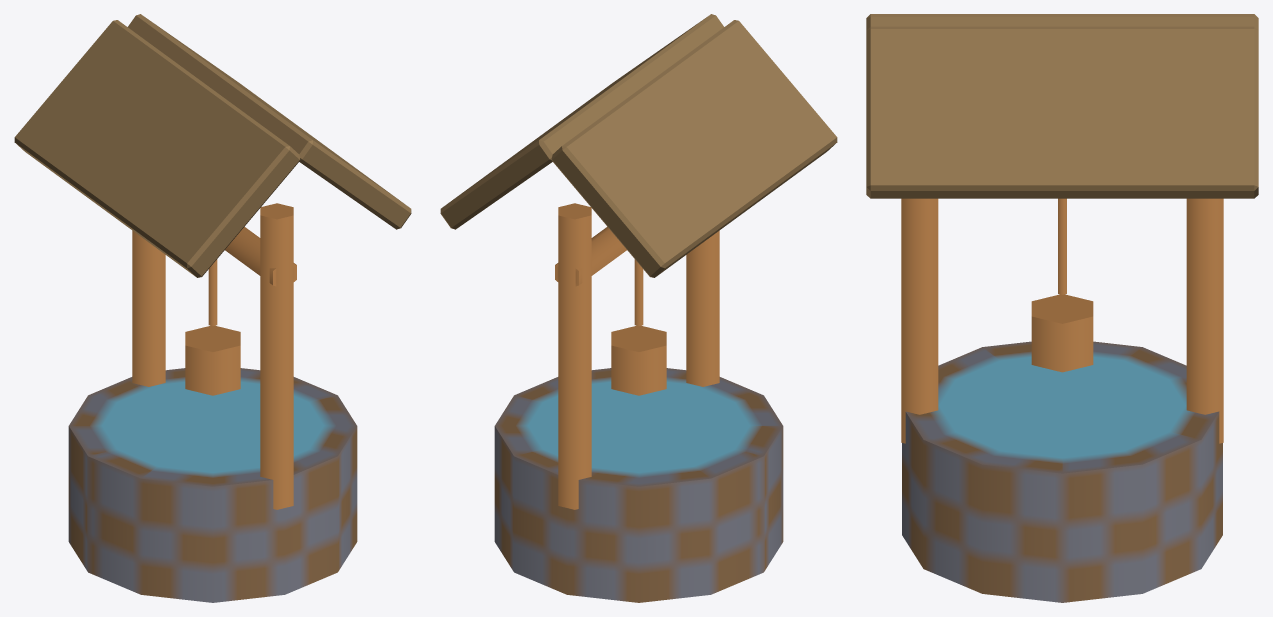
File: prop_well_7e09.glb
The picture shows the model from 3 angles, left to right: view 1: azimuth 30°, elevation 25°; view 2: azimuth 150°, elevation 25°; view 3: azimuth 270°, elevation 25°; orthographic projection. The views are drawn at different scales.
Parts seen in each view (by area): view 1: prop_well_7e09; view 2: prop_well_7e09; view 3: prop_well_7e09.
Boxes of the visible parts, x1,y1,x2,y2 form: prop_well_7e09: (14, 14, 411, 602); prop_well_7e09: (440, 14, 837, 602); prop_well_7e09: (866, 14, 1258, 602).
Bounding box in the file's own units: 0.7954 × 1.4 × 0.9722.
1 material, 1 textured.
